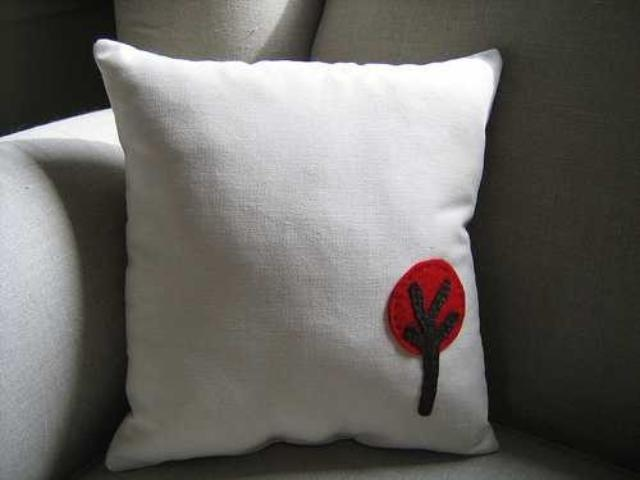pillow: (92, 36, 504, 470)
